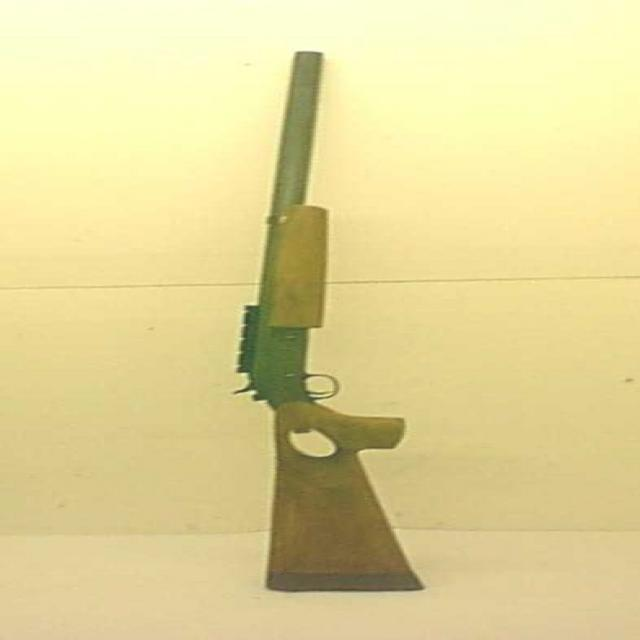weapon: (184, 38, 500, 610)
